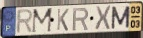K: (56, 8, 70, 32)
M: (31, 7, 55, 34), (110, 5, 131, 30)
R: (15, 8, 35, 35), (72, 7, 90, 32)
X: (94, 5, 112, 32)
